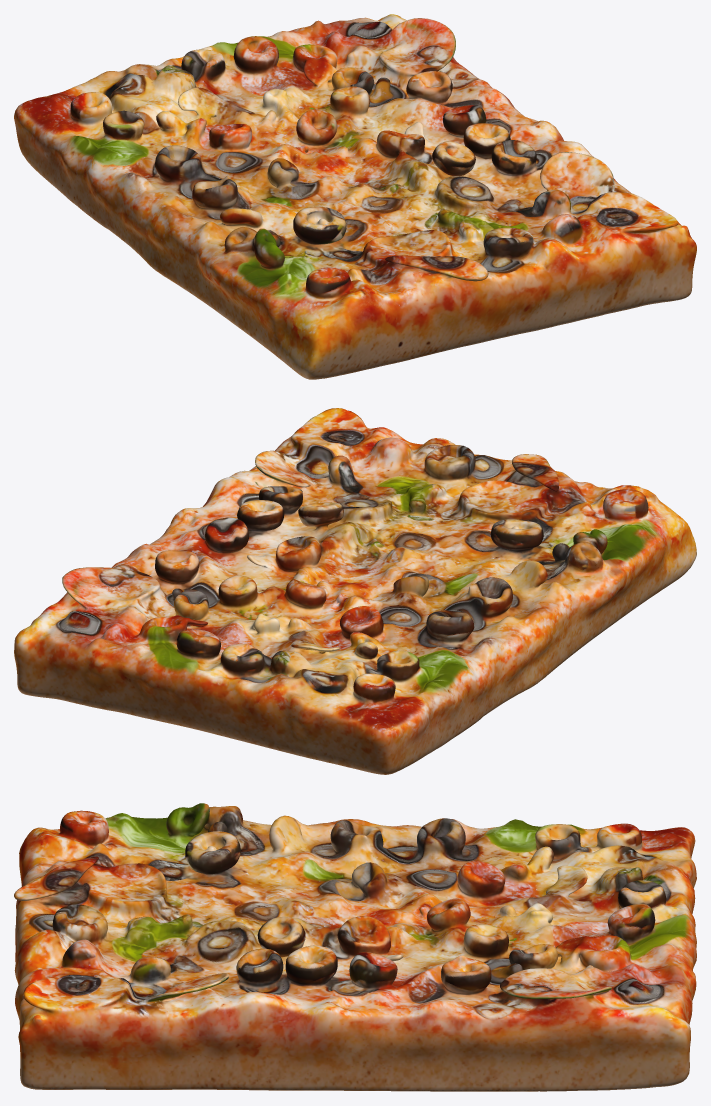
File: tranche.glb
3 views of the same model, one above another, from view 1: azimuth 30°, elevation 25°; view 2: azimuth 150°, elevation 25°; view 3: azimuth 270°, elevation 25° (orthographic). The views are drawn at different scales.
Parts seen in each view (by area): view 1: tripo_node_2b64163e; view 2: tripo_node_2b64163e; view 3: tripo_node_2b64163e.
Part boxes in pixels (left/top/right/bottom): tripo_node_2b64163e: left=14, top=14, right=696, bottom=379; tripo_node_2b64163e: left=14, top=408, right=696, bottom=774; tripo_node_2b64163e: left=14, top=803, right=696, bottom=1091.
Bounding box in the file's own units: 73.67 × 17.08 × 99.68.
Materials: 1 (1 with a texture image).
